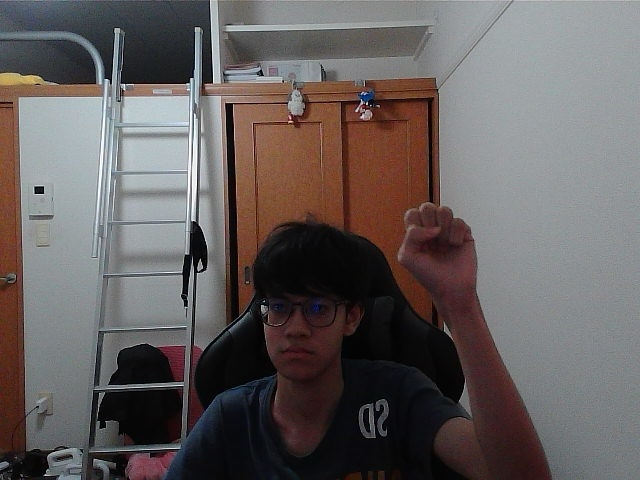closed_palm: (408, 208, 464, 289)
